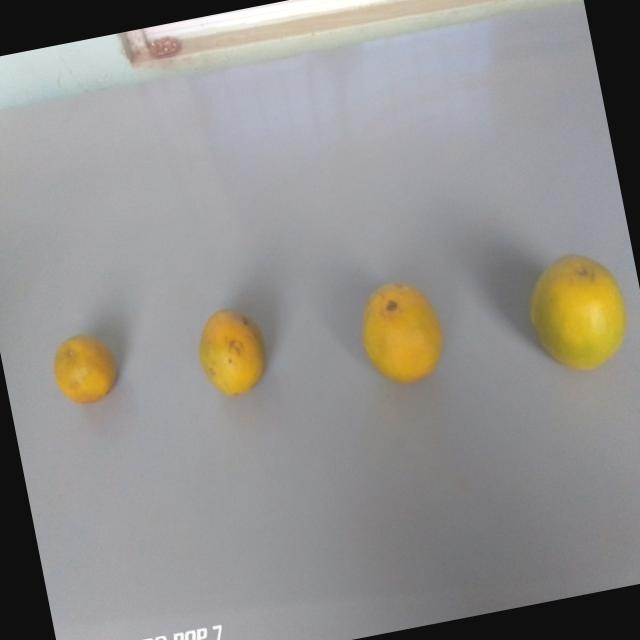agrume: (516, 237, 640, 391), (345, 270, 455, 395), (185, 296, 276, 408), (42, 318, 131, 423)
